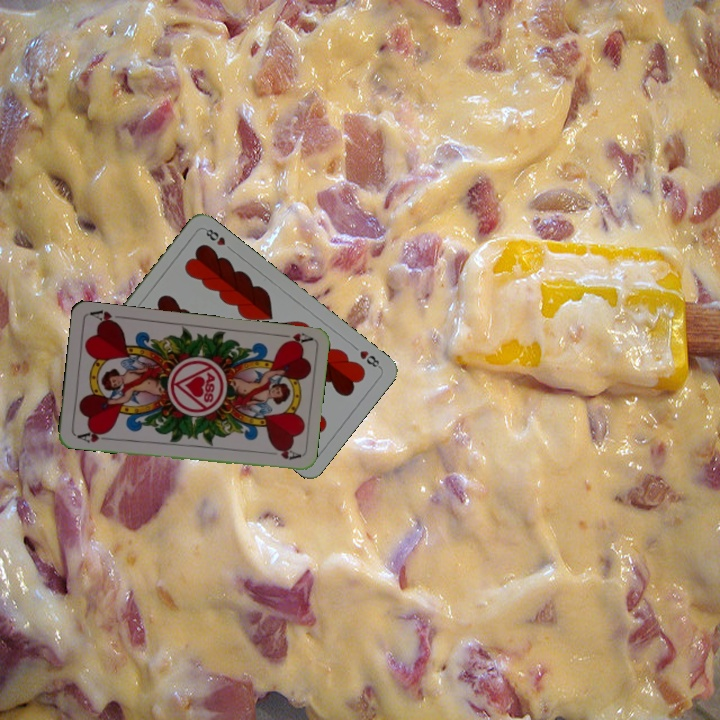H8: (356, 346, 384, 371)
HA: (273, 328, 314, 348), (73, 426, 113, 445)
